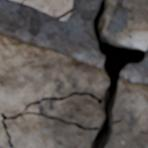brick: (113, 0, 147, 48), (25, 0, 71, 16)
broken_brick: (0, 34, 107, 115), (6, 115, 94, 147), (108, 77, 147, 147), (0, 124, 8, 147)
crack: (0, 0, 147, 147), (56, 8, 72, 19)
